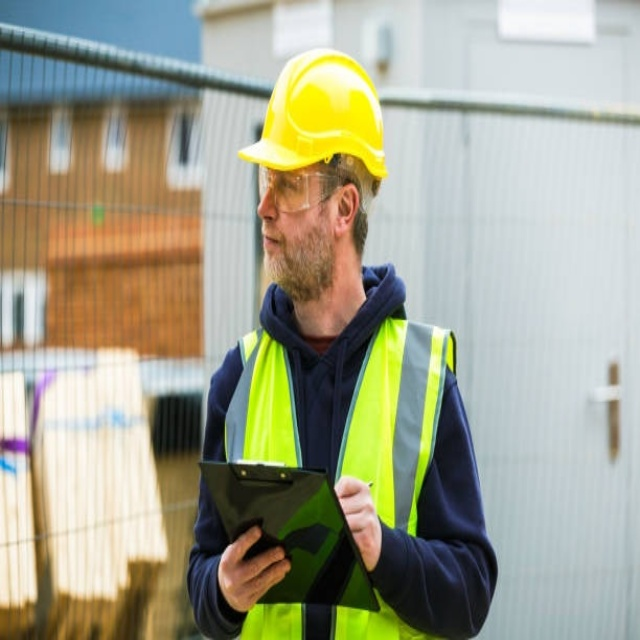Gafas: (255, 158, 351, 218)
Sin_guantes: (217, 521, 292, 615), (333, 474, 381, 576)
Sin_mascara: (259, 224, 290, 271)
